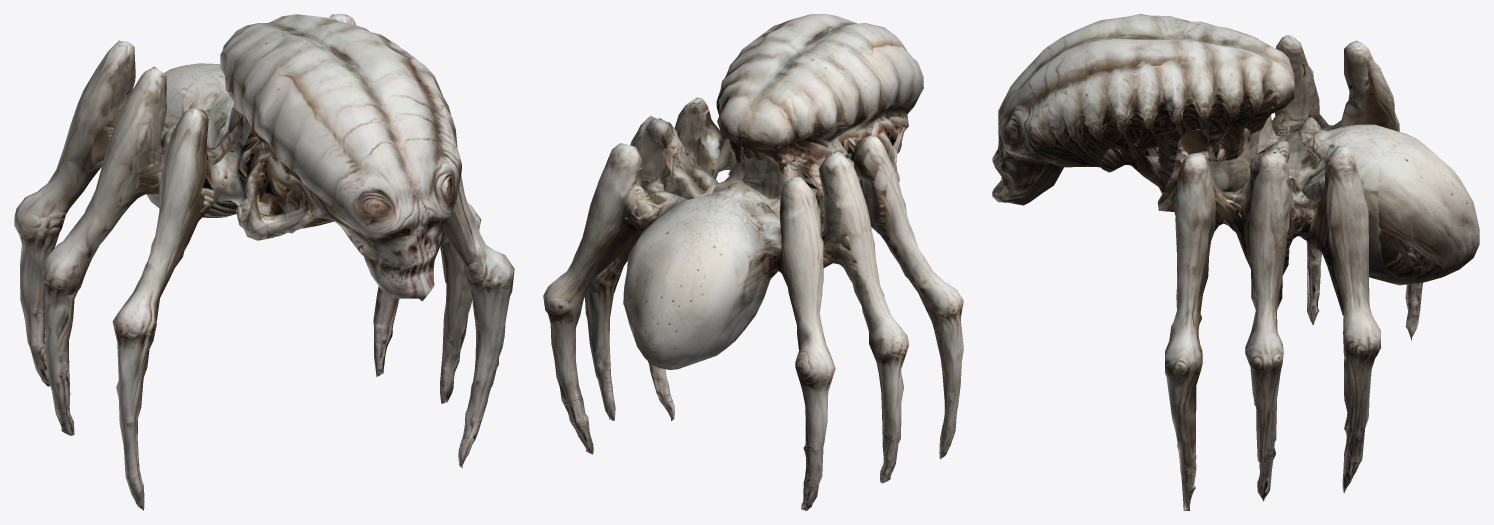
Rendered from bigspider.glb.
3 views of the same model, side by side, from view 1: azimuth 30°, elevation 25°; view 2: azimuth 150°, elevation 25°; view 3: azimuth 270°, elevation 25° (orthographic). The views are drawn at different scales.
Size of the model in its own units: 1.02 by 1.14 by 1.2.
1 material, 1 textured.
